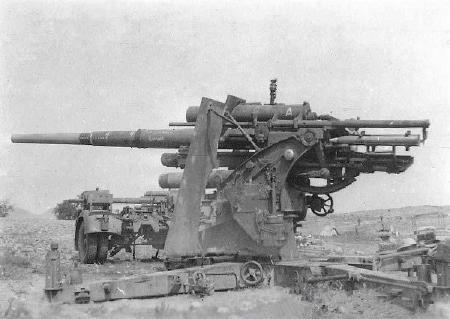MIL_SPG: (11, 81, 429, 263)
